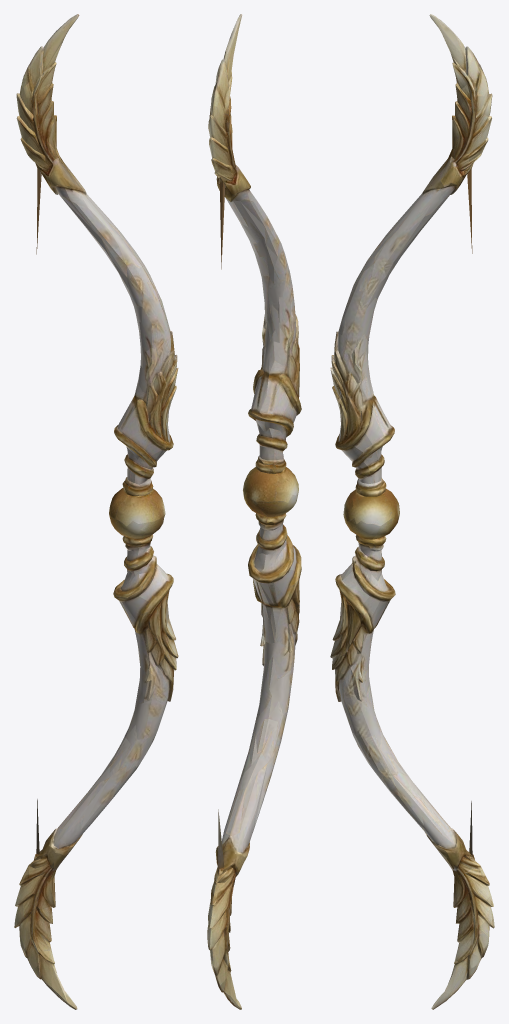
File: w_hunter_unique.glb
The picture shows the model from 3 angles, left to right: view 1: azimuth 90°, elevation 25°; view 2: azimuth 150°, elevation 25°; view 3: azimuth 270°, elevation 25°; orthographic projection.
Bounding box in the file's own units: 0.0697 × 1.36 × 0.2034.
1 material, 1 textured.
